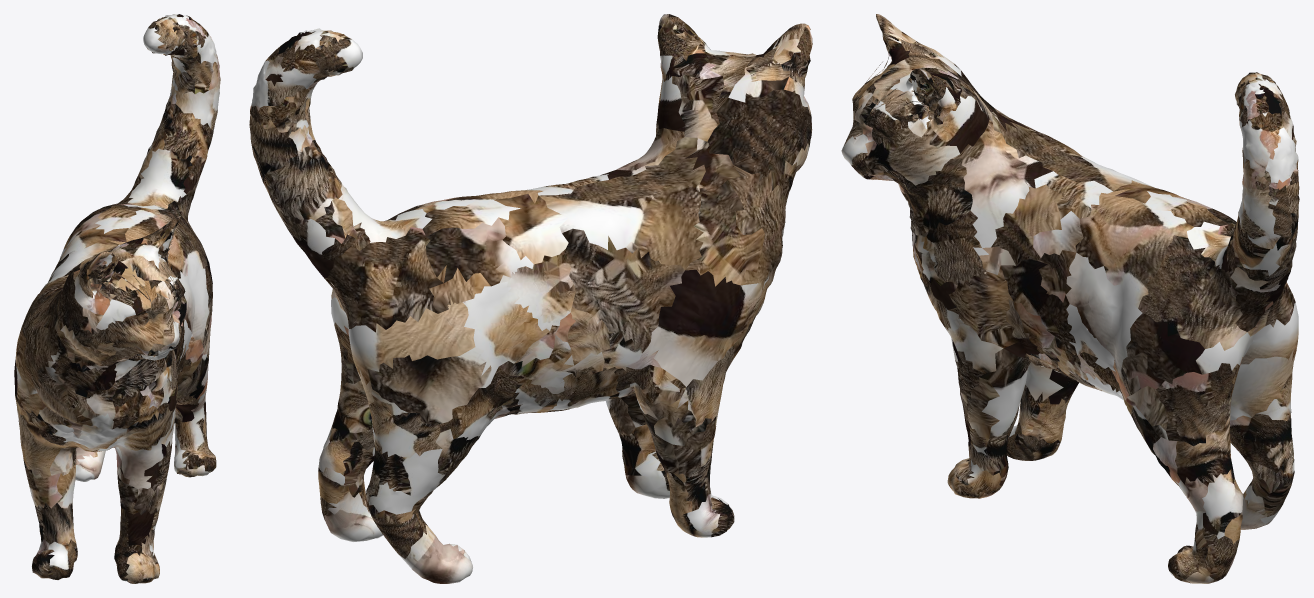
The model's file is v-cat-dec.glb.
The picture shows the model from 3 angles, left to right: view 1: azimuth 30°, elevation 25°; view 2: azimuth 150°, elevation 25°; view 3: azimuth 270°, elevation 25°; orthographic projection. The views are drawn at different scales.
Bounding box in the file's own units: 0.3729 × 0.4999 × 0.4147.
Materials: 1 (1 with a texture image).
